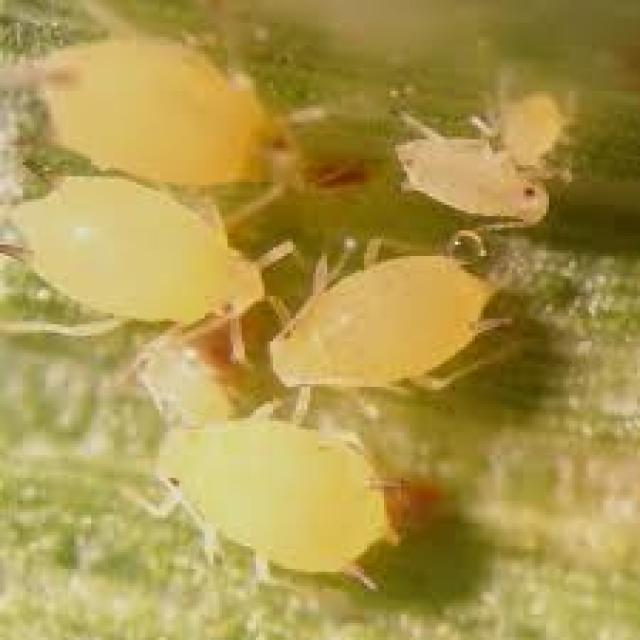Aphids: (146, 405, 437, 606), (272, 235, 542, 442), (6, 156, 285, 342), (375, 111, 568, 239)
